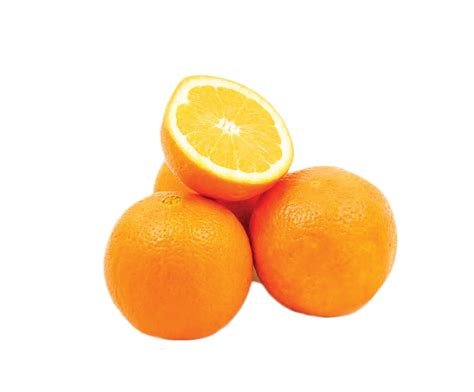orange: (102, 189, 255, 343), (250, 165, 398, 321)
